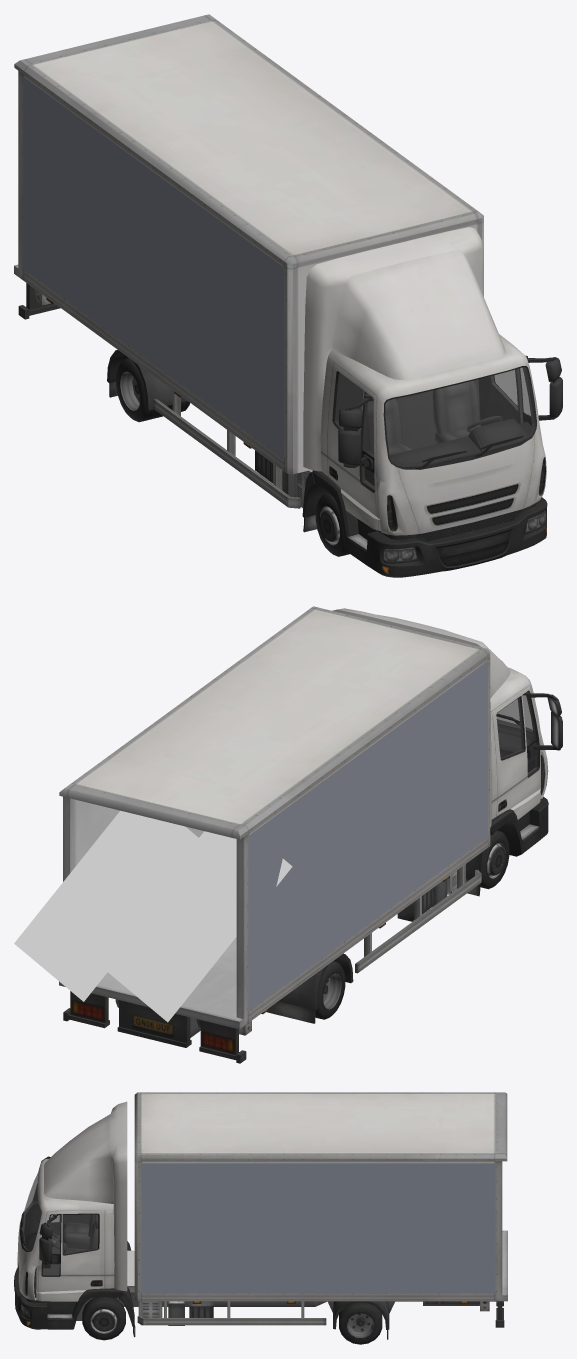
Rendered from 3dtruck.glb.
3 views of the same model, one above another, from view 1: azimuth 30°, elevation 25°; view 2: azimuth 150°, elevation 25°; view 3: azimuth 270°, elevation 25° (orthographic). The views are drawn at different scales.
Parts seen in each view (by area): view 1: MediumTruck01, RightSide, WheelBR, WheelFR; view 2: MediumTruck01, RightSide, LeftDoor, RightDoor, WheelBR, WheelFR; view 3: MediumTruck01, LeftSide, WheelFL, WheelBL.
Boxes of the visible parts, box(x1,y1,x2,y2) form: MediumTruck01: box(14, 14, 562, 577); RightSide: box(23, 77, 284, 458); WheelBR: box(116, 358, 189, 422); WheelFR: box(315, 493, 349, 556); MediumTruck01: box(59, 606, 562, 1063); RightSide: box(248, 661, 487, 1011); LeftDoor: box(14, 810, 198, 1001); RightDoor: box(98, 831, 292, 1022); WheelBR: box(315, 961, 345, 1019); WheelFR: box(480, 830, 509, 889); MediumTruck01: box(14, 1092, 507, 1339); LeftSide: box(141, 1163, 495, 1293); WheelFL: box(82, 1297, 125, 1340); WheelBL: box(339, 1302, 382, 1344).
Size of the model in its own units: 2.93 by 3.55 by 9.19.
3 materials, 2 textured.
